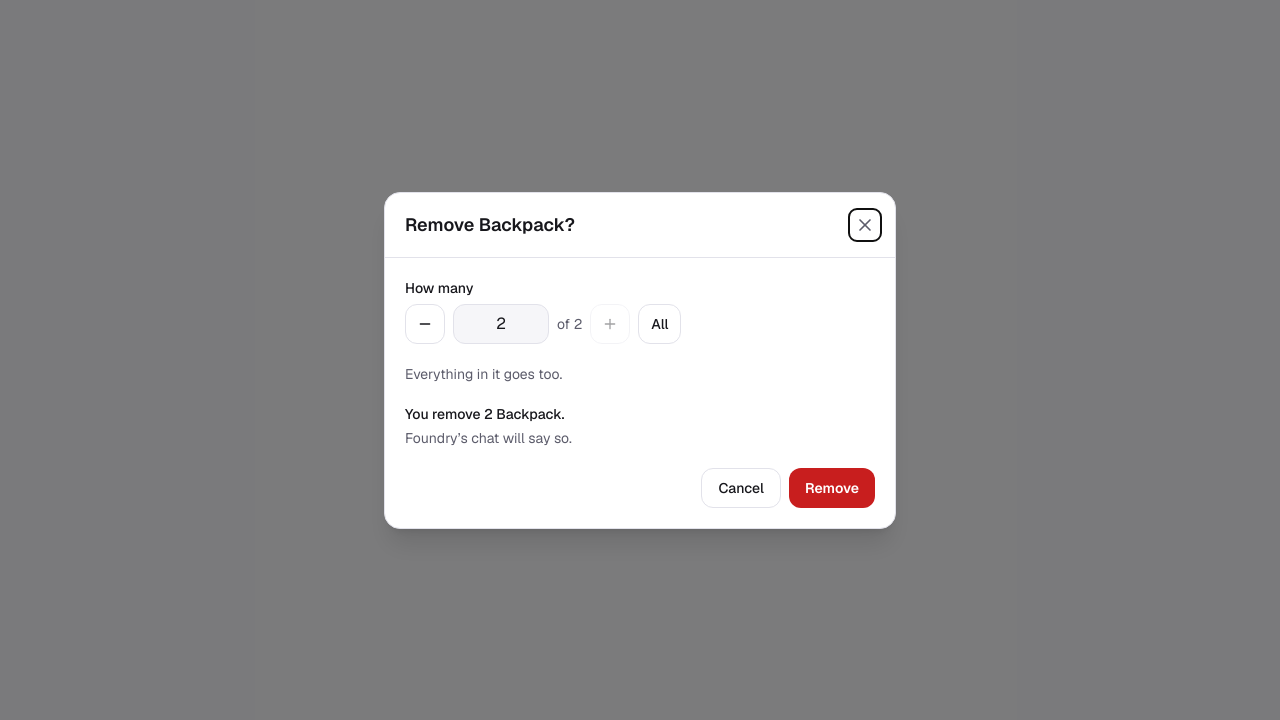
components/transfers/remove-dialog › says everything in a container goes too, where all of it does and it may hold anything
expect the text "Everything in it goes too." is shown: met, box [405,364,562,382]
Click the button named "One fewer" at (425, 324), box [405,304,445,344]
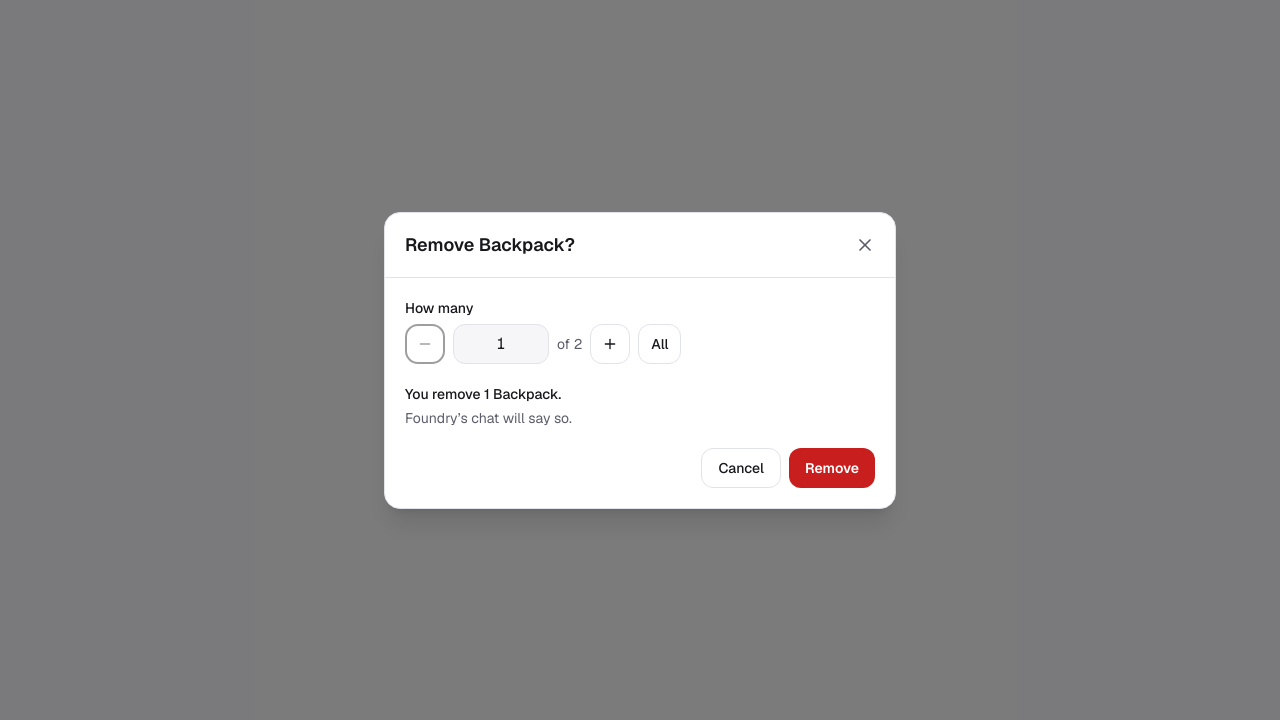
expect the text "Everything in it goes too." is gone: met
